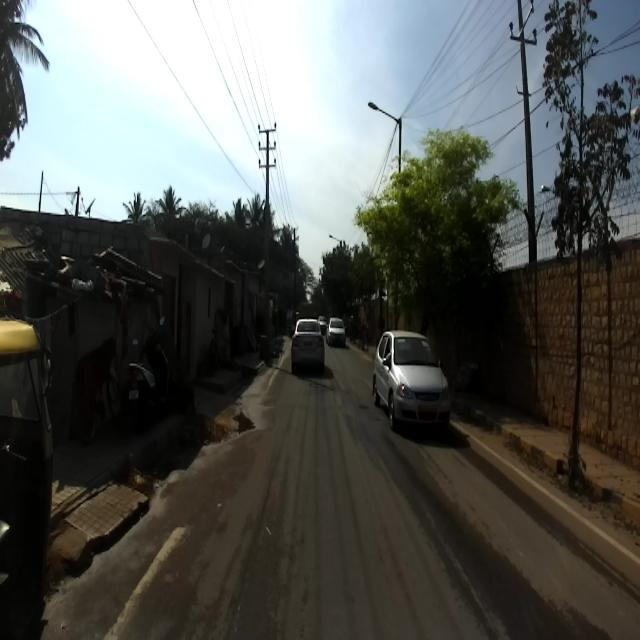autorickshaw: (0, 316, 53, 638)
car: (372, 329, 453, 430), (290, 316, 328, 368)
scooter: (126, 315, 170, 430)
